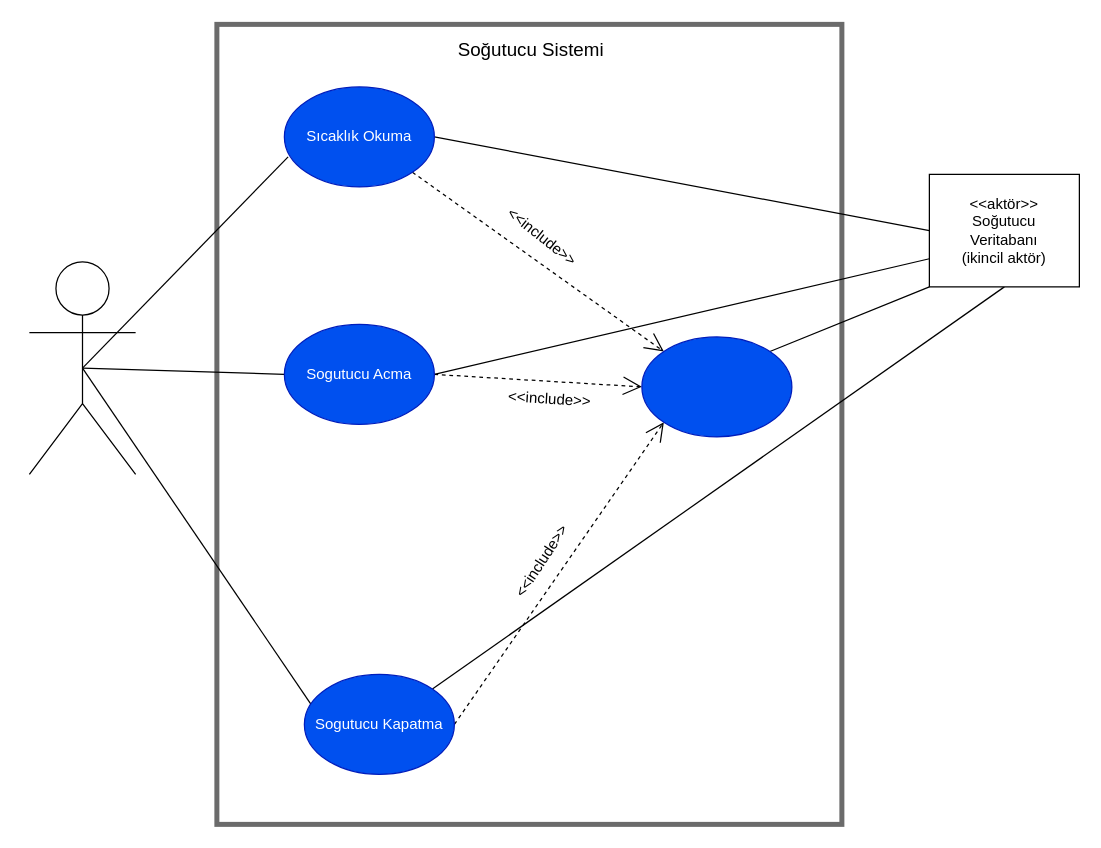
This 1101x848 diagram has some shape labels left out. The centre of each missing label's shape, as x and y in pixels:
"İnternet kullanıcısı" belongs at [82,367].
"Kullanıcı Dogrulama" belongs at [716,386].
